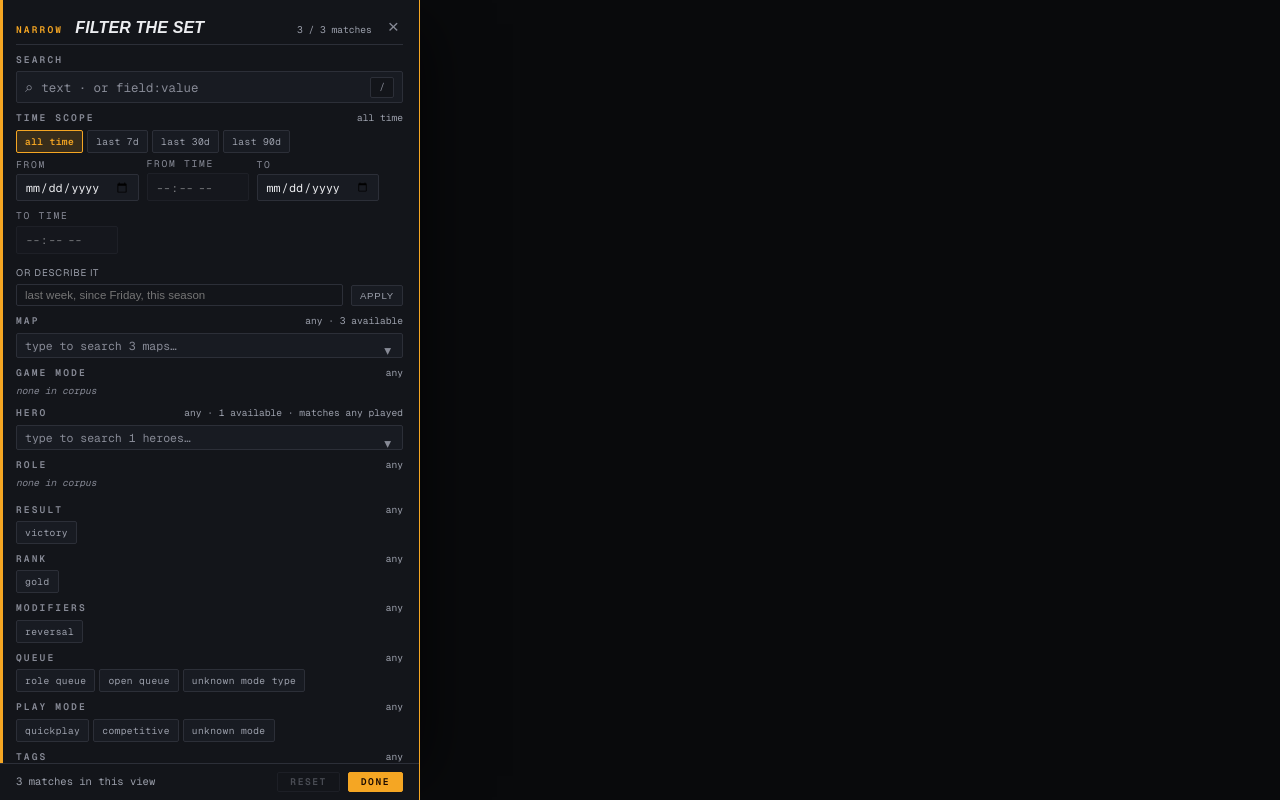
NarrowPopover — narrowing the set › a fixed-enum facet counts its picks and narrows the set
The width and height of the screenshot is (1280, 800).
Expected: the text "any" in the row of "Game Mode" is shown, [386,366,403,379]
Click the button "Role Queue". click: coordinates (56, 681)
box: [16,669,95,692]
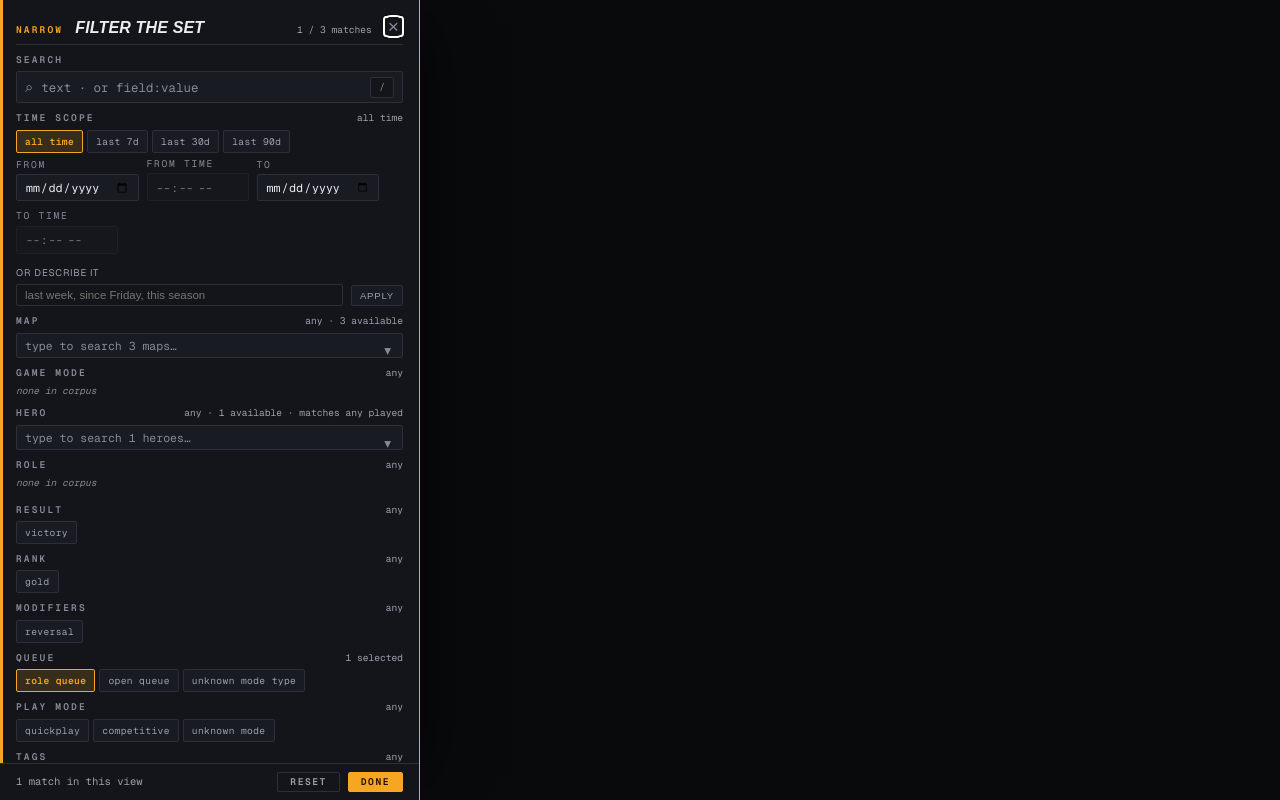
Now the text "1 selected" is shown, box [345,651,403,665]
